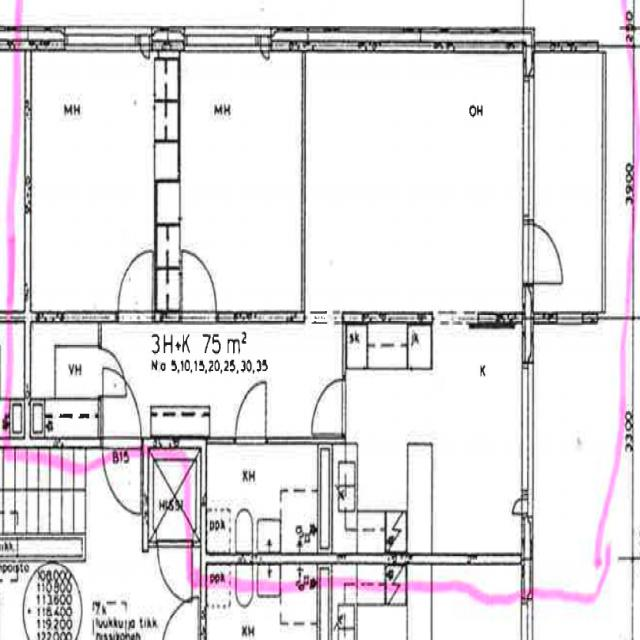door: (520, 222, 570, 284), (104, 435, 139, 509), (104, 375, 139, 449), (118, 254, 151, 322), (184, 254, 216, 322), (310, 379, 346, 431), (235, 384, 266, 444), (97, 348, 130, 396)
